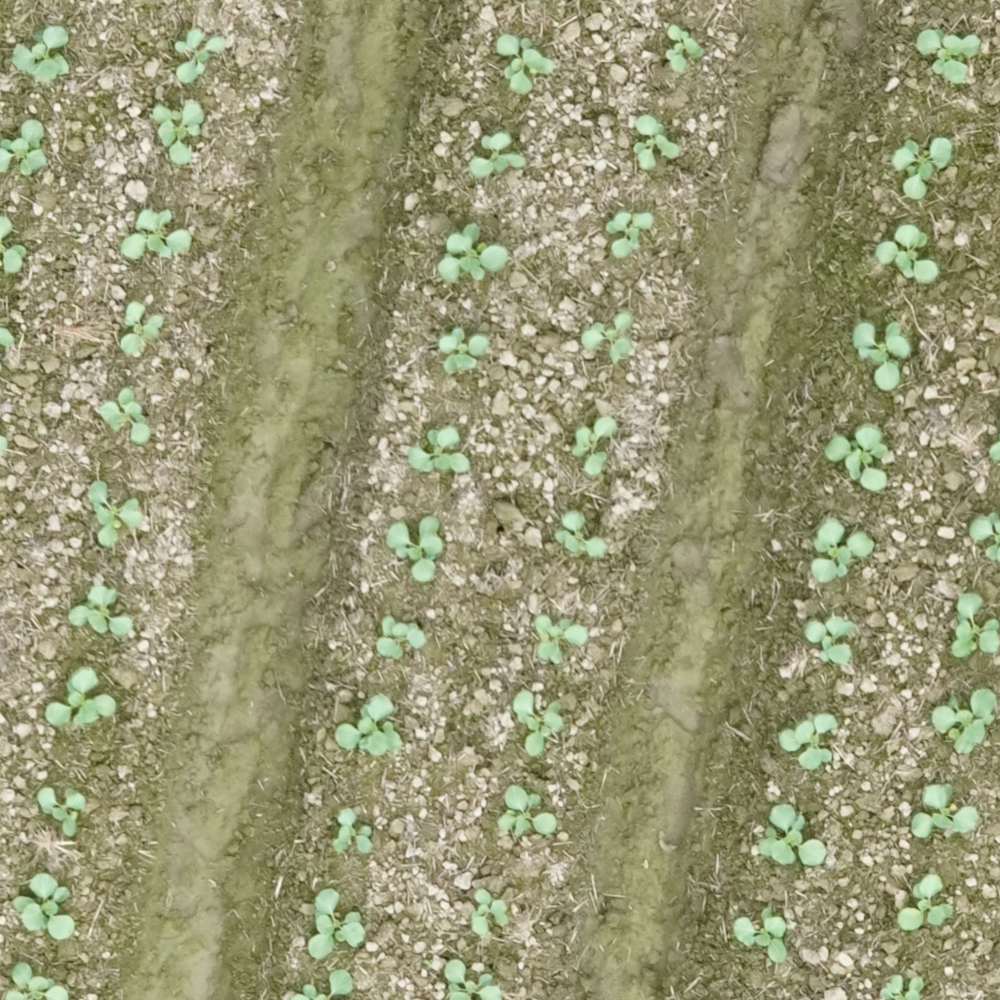Cabbage: (824, 423, 889, 493), (756, 803, 826, 867), (334, 694, 402, 758), (44, 667, 116, 727), (13, 872, 75, 940), (438, 223, 508, 283), (933, 688, 996, 754), (811, 518, 873, 584), (852, 322, 910, 390), (309, 889, 365, 959), (892, 136, 953, 200), (911, 782, 980, 838), (386, 516, 444, 582), (915, 28, 982, 85), (875, 225, 939, 284), (88, 481, 142, 548), (497, 33, 554, 95), (513, 690, 565, 757), (122, 210, 191, 260), (68, 585, 134, 637), (152, 99, 203, 166), (779, 713, 837, 769), (897, 873, 953, 930), (12, 27, 69, 83), (499, 785, 557, 838), (951, 593, 997, 659), (734, 907, 787, 963), (409, 426, 470, 474), (175, 28, 227, 84), (572, 415, 618, 477), (581, 312, 633, 366), (100, 389, 149, 445), (535, 614, 588, 665), (470, 131, 526, 177), (634, 115, 680, 170), (0, 120, 45, 176), (555, 510, 606, 559), (121, 301, 165, 357), (5, 962, 69, 1000), (805, 616, 855, 664), (440, 327, 488, 376), (446, 959, 503, 1000), (38, 787, 84, 837), (376, 616, 426, 660), (606, 213, 653, 259), (284, 970, 353, 1000), (665, 25, 705, 72), (333, 808, 373, 853), (471, 889, 509, 936), (966, 512, 1000, 564), (0, 217, 26, 274), (880, 973, 924, 1000)
